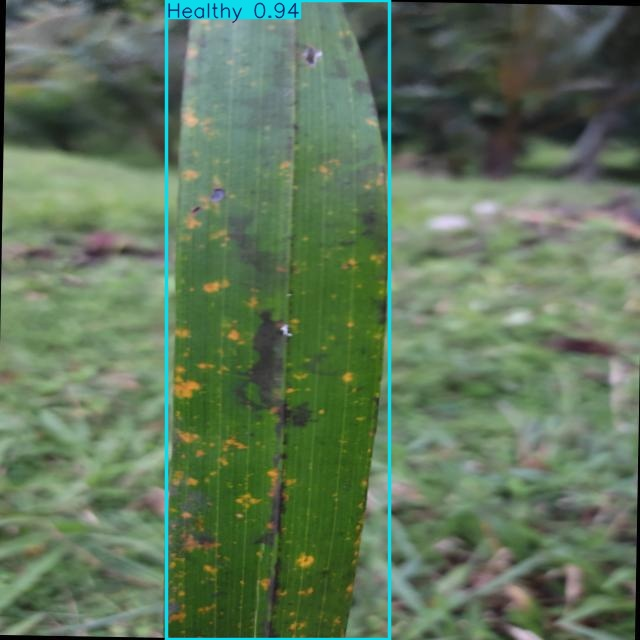Healthy: (166, 0, 389, 640)
